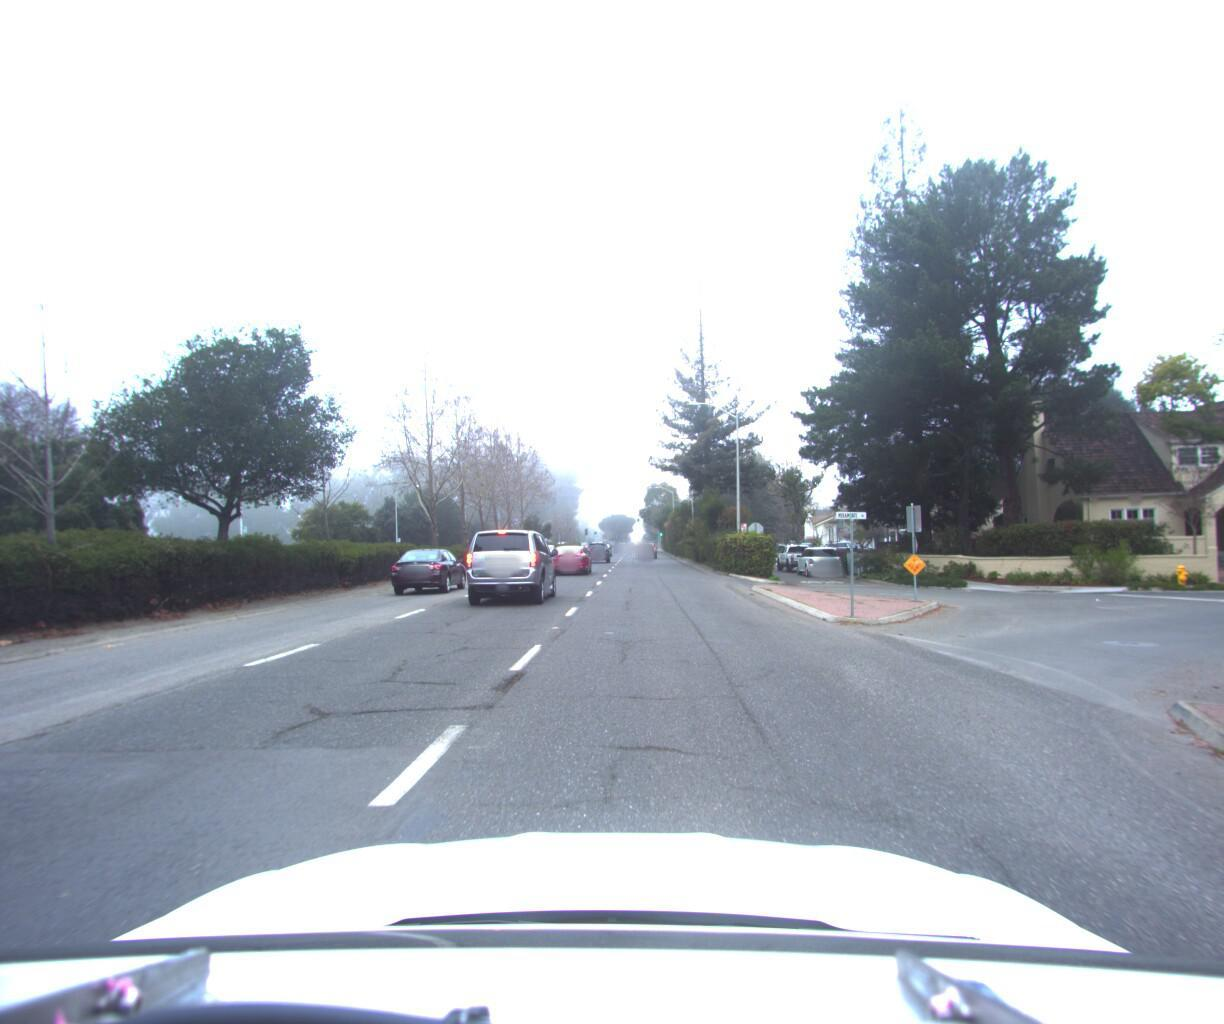car: (454, 521, 561, 606), (387, 541, 474, 592), (789, 537, 843, 571), (547, 538, 595, 571), (773, 536, 822, 566), (585, 534, 611, 557), (639, 532, 660, 552)
